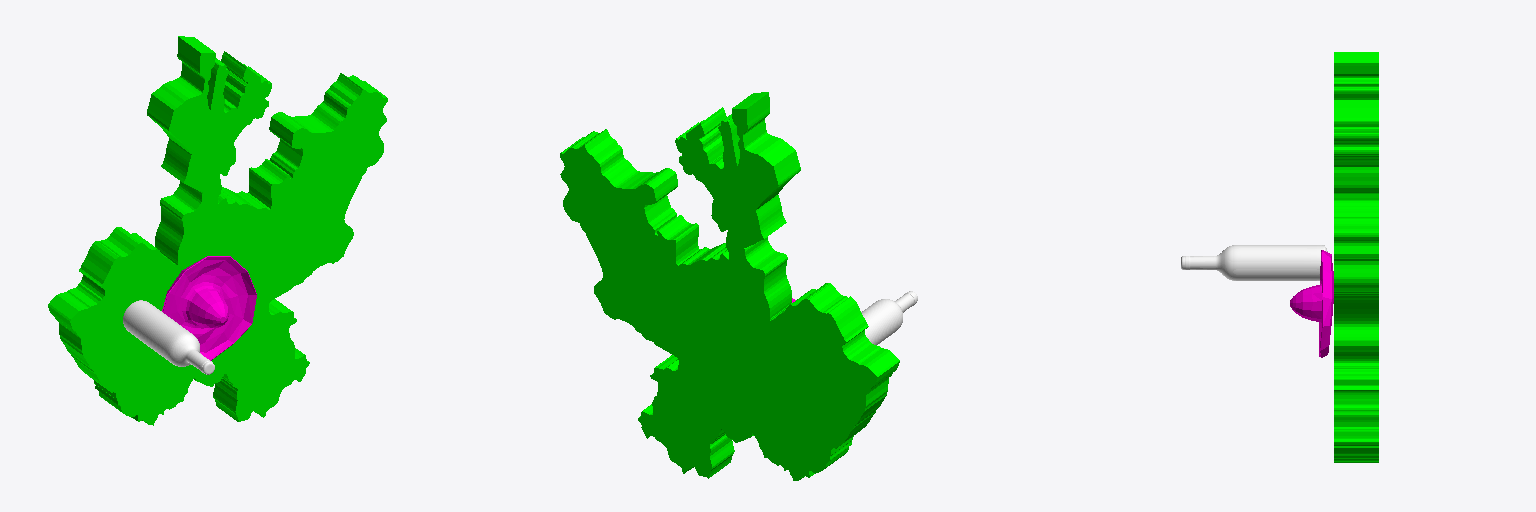
Rendered from Jalisco.obj.
The picture shows the model from 3 angles: view 1: azimuth 30°, elevation 25°; view 2: azimuth 150°, elevation 25°; view 3: azimuth 270°, elevation 25°; orthographic projection.
Visible parts, largest first — view 1: group1 group_0_[number redacted], Mesh group1, group1 _750_mL_Wine_Bottle; view 2: group1 group_0_[number redacted], group1 _750_mL_Wine_Bottle; view 3: group1 group_0_[number redacted], group1 _750_mL_Wine_Bottle, Mesh group1.
Boxes of the visible parts, x1,y1,x2,y2 form: group1 group_0_[number redacted]: [48, 36, 387, 425]; Mesh group1: [162, 256, 256, 360]; group1 _750_mL_Wine_Bottle: [123, 300, 214, 374]; group1 group_0_[number redacted]: [560, 92, 899, 480]; group1 _750_mL_Wine_Bottle: [861, 291, 917, 344]; group1 group_0_[number redacted]: [1334, 52, 1378, 462]; group1 _750_mL_Wine_Bottle: [1181, 245, 1327, 280]; Mesh group1: [1290, 250, 1333, 357].
Bounding box in the file's own units: 20.13 × 23 × 10.84.